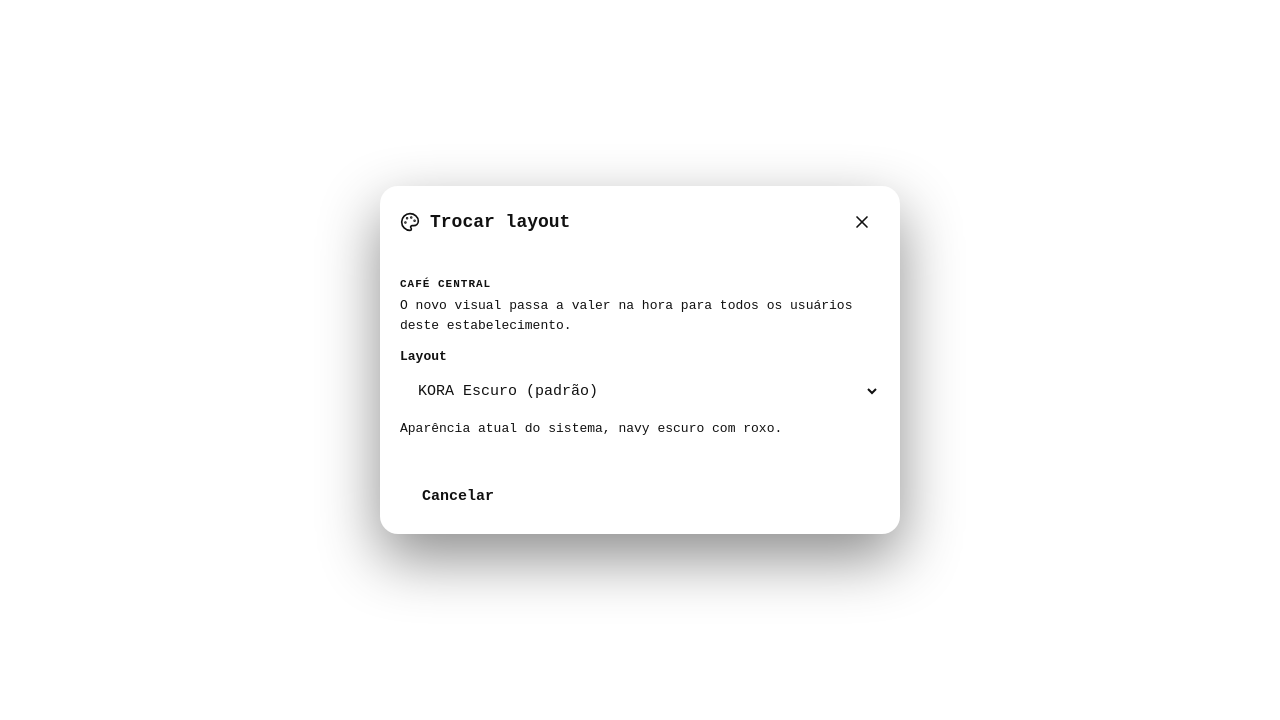
Test case: AlterarLayoutModal, a troca de layout de um estabelecimento › mostra a descrição do layout escolhido antes de salvar
The image size is (1280, 720).
Select "Neutro Claro" in the dropdown at (640, 392), box [400, 370, 880, 413]
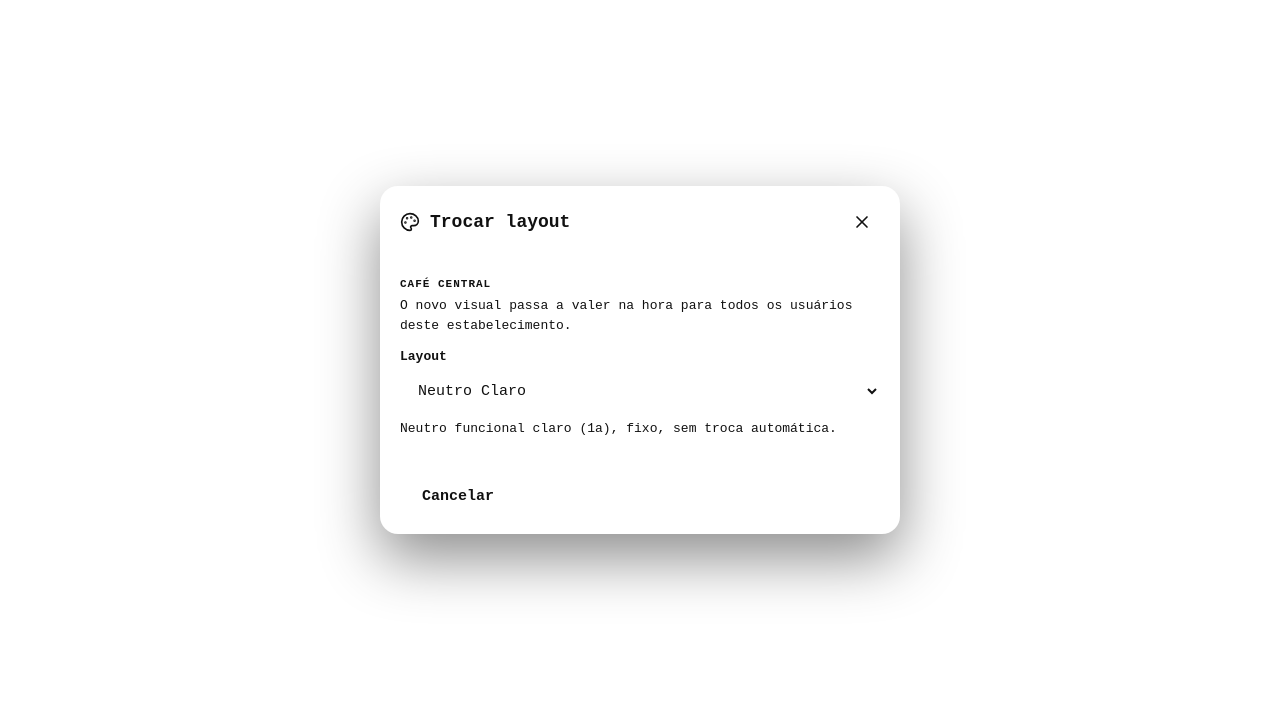
Result: the text "Neutro funcional claro (1a), fixo, sem troca automática." is shown at [400, 419, 880, 439]
